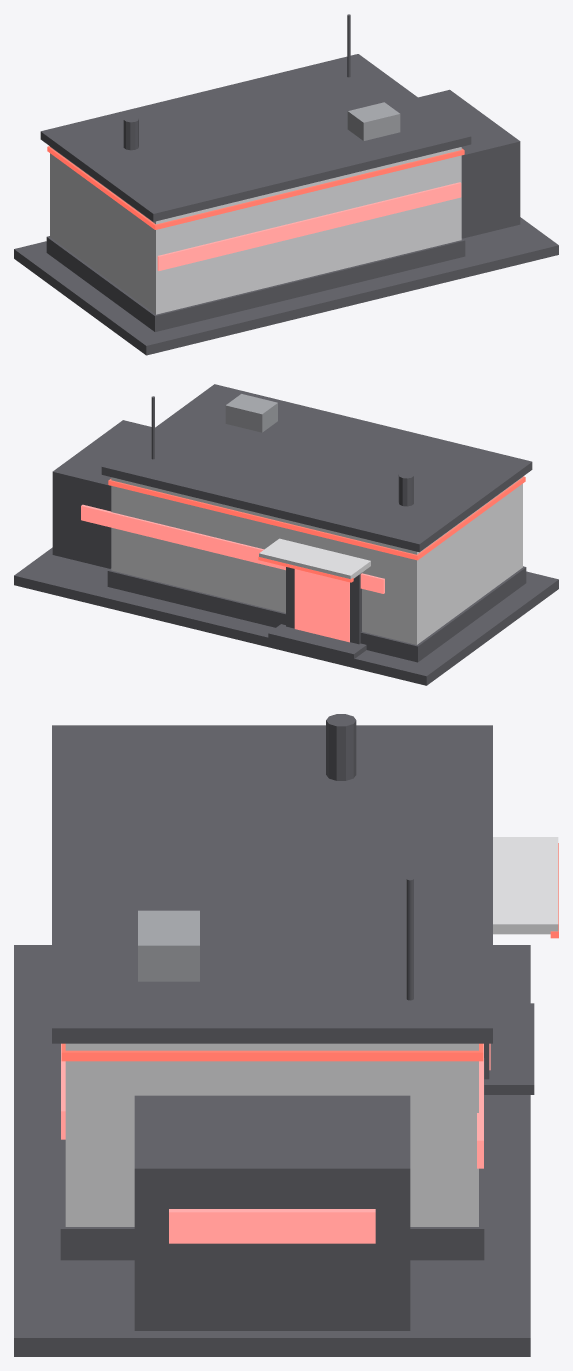
File: jp_barracks.glb
3 views of the same model, one above another, from view 1: azimuth 30°, elevation 25°; view 2: azimuth 150°, elevation 25°; view 3: azimuth 270°, elevation 25° (orthographic). The views are drawn at different scales.
Parts seen in each view (by area): view 1: RoofSlab, Main, Pad, BaseBand, Module, WinB, Strip, VentBox, VentPipe; view 2: RoofSlab, Main, Pad, Module, BaseBand, WinF, Door, Strip, Canopy, VentBox, Step, Entry (+2 smaller); view 3: RoofSlab, Module, Pad, Main, ModuleWin, Canopy, BaseBand, Strip, VentBox, Step, VentPipe, Antenna.
Part boxes in pixels (x1,y1,x2,y2): RoofSlab: [40, 54, 471, 221]; Main: [50, 146, 461, 314]; Pad: [14, 217, 558, 355]; BaseBand: [46, 236, 465, 331]; Module: [418, 89, 520, 238]; WinB: [157, 182, 461, 270]; Strip: [47, 146, 464, 229]; VentBox: [347, 102, 400, 140]; VentPipe: [123, 116, 138, 150]; RoofSlab: [101, 384, 532, 552]; Main: [111, 477, 522, 644]; Pad: [14, 547, 558, 685]; Module: [52, 420, 151, 568]; BaseBand: [107, 566, 526, 662]; WinF: [81, 504, 384, 593]; Door: [294, 569, 349, 642]; Strip: [108, 476, 525, 560]; Canopy: [259, 538, 370, 579]; VentBox: [225, 394, 277, 432]; Step: [268, 624, 366, 659]; Entry: [286, 567, 361, 644]; RoofSlab: [52, 725, 492, 1043]; Module: [134, 1095, 410, 1330]; Pad: [14, 945, 530, 1356]; Main: [65, 1043, 478, 1226]; ModuleWin: [169, 1209, 375, 1243]; Canopy: [493, 837, 558, 934]; BaseBand: [60, 1044, 484, 1260]; Strip: [61, 1043, 483, 1061]; VentBox: [138, 910, 199, 981]; Step: [484, 1003, 534, 1094]; VentPipe: [326, 714, 356, 780]; Antenna: [406, 877, 413, 1000].
Bounding box in the file's own units: 13.5 × 6 × 7.91.
